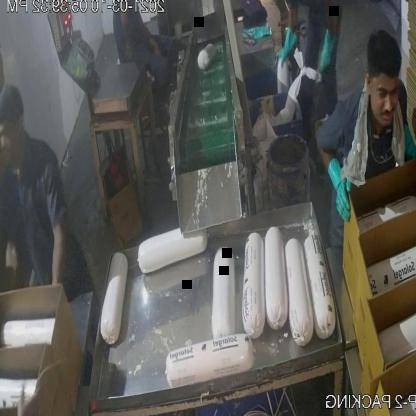glove: (324, 154, 355, 225)
no_glove: (46, 205, 72, 299)
